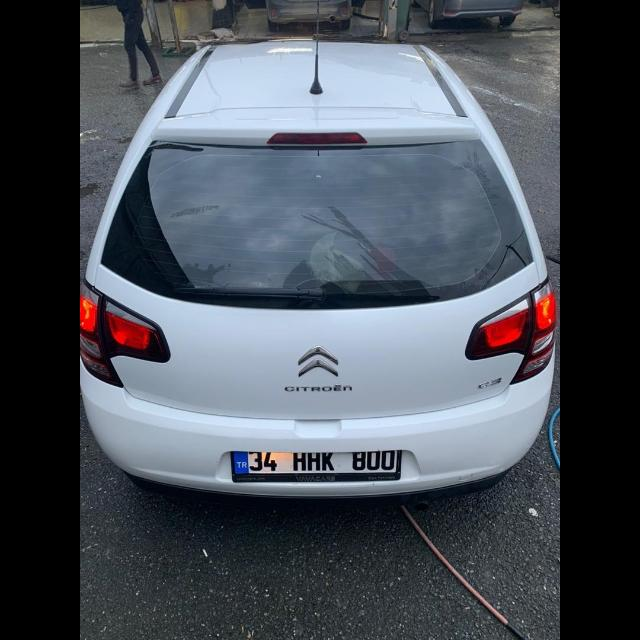Plaka: (234, 446, 398, 472)
